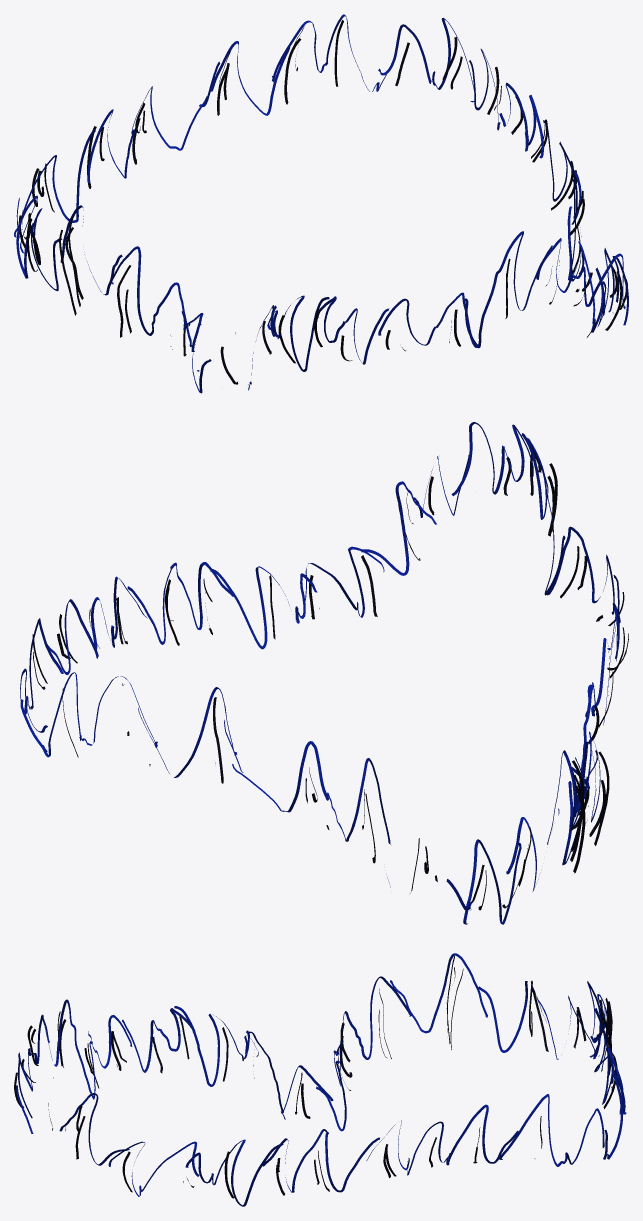
The model's file is arena.fbx.
The picture shows the model from 3 angles, top to bottom: view 1: azimuth 30°, elevation 25°; view 2: azimuth 150°, elevation 25°; view 3: azimuth 270°, elevation 25°; orthographic projection. The views are drawn at different scales.
Parts seen in each view (by area): view 1: latk_UnityLayer 1_0_mesh.086; view 2: latk_UnityLayer 1_0_mesh.086; view 3: latk_UnityLayer 1_0_mesh.086.
Boxes of the visible parts, x1=… form: latk_UnityLayer 1_0_mesh.086: x1=14, y1=14, x2=628, y2=393; latk_UnityLayer 1_0_mesh.086: x1=20, y1=422, x2=628, y2=924; latk_UnityLayer 1_0_mesh.086: x1=14, y1=953, x2=626, y2=1206.
Size of the model in its own units: 1293 by 616 by 1607.
